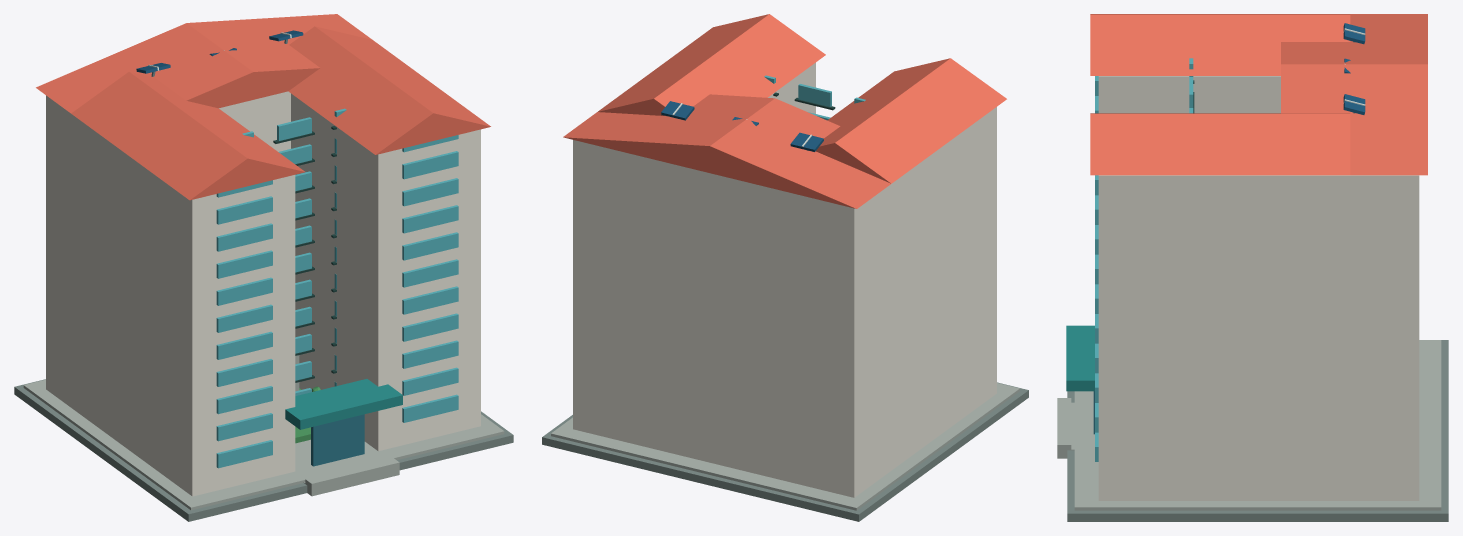
The model's file is university_lv4.glb.
The picture shows the model from 3 angles, left to right: view 1: azimuth 30°, elevation 25°; view 2: azimuth 150°, elevation 25°; view 3: azimuth 270°, elevation 25°; orthographic projection. The views are drawn at different scales.
Visible parts, largest first — view 1: ivory, coral, glass, concrete, pavement, teal, glassDark, dark; view 2: ivory, coral, concrete, pavement, solar, glass; view 3: ivory, coral, concrete, pavement, teal, glass, solar.
Boxes of the visible parts, bbox=[...] form: ivory: bbox=[46, 91, 480, 496]; coral: bbox=[36, 14, 490, 200]; glass: bbox=[216, 108, 458, 468]; concrete: bbox=[23, 355, 504, 510]; pavement: bbox=[14, 379, 513, 521]; teal: bbox=[285, 379, 402, 429]; glassDark: bbox=[311, 414, 364, 466]; dark: bbox=[273, 126, 336, 382]; ivory: bbox=[573, 62, 996, 497]; coral: bbox=[563, 14, 1006, 208]; concrete: bbox=[551, 383, 1019, 510]; pavement: bbox=[542, 382, 1028, 521]; solar: bbox=[661, 101, 823, 151]; glass: bbox=[764, 75, 865, 120]; ivory: bbox=[1098, 76, 1419, 500]; coral: bbox=[1090, 14, 1427, 175]; concrete: bbox=[1057, 340, 1441, 510]; pavement: bbox=[1067, 340, 1448, 521]; teal: bbox=[1066, 325, 1094, 391]; glass: bbox=[1095, 58, 1193, 461]; solar: bbox=[1343, 23, 1365, 114].
Size of the model in its own units: 9.8 by 9.76 by 9.34.
